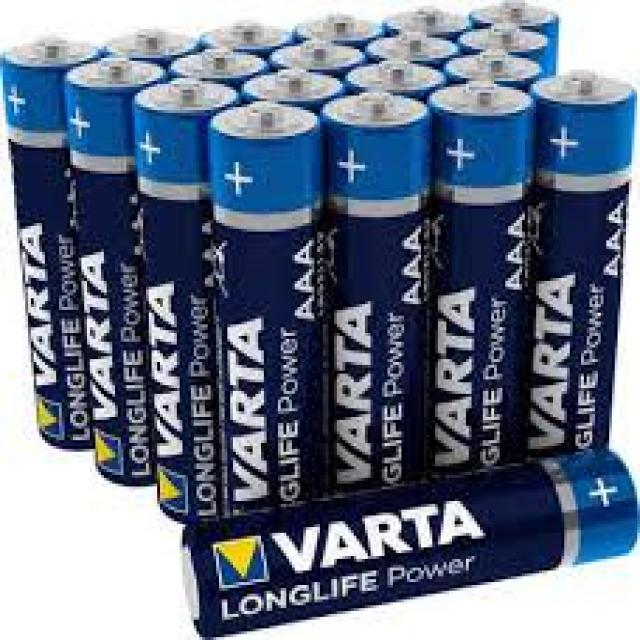non-organic waste: (182, 449, 640, 640), (207, 98, 326, 520), (134, 70, 240, 528), (518, 72, 640, 464), (2, 32, 115, 453), (65, 49, 166, 492), (320, 88, 422, 498), (430, 80, 533, 482)
